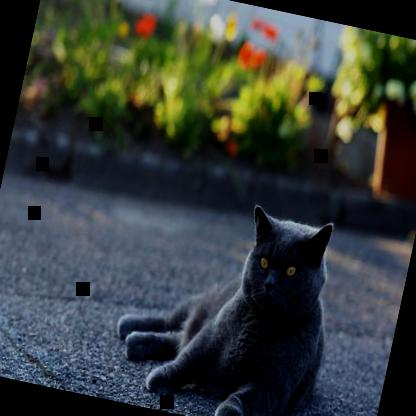cat: (100, 180, 350, 415)
